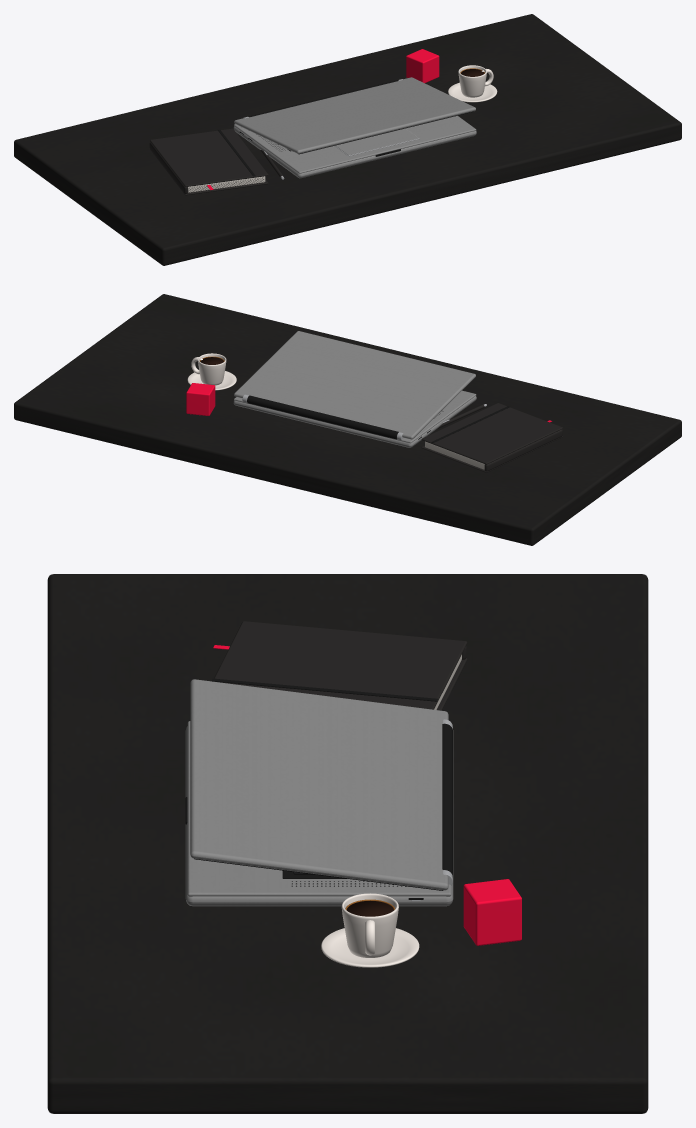
Rendered from workstation-v2.glb.
3 renders of one model, top to bottom at view 1: azimuth 30°, elevation 25°; view 2: azimuth 150°, elevation 25°; view 3: azimuth 270°, elevation 25°, orthographic. The views are drawn at different scales.
Parts seen in each view (by area): view 1: Basalt desktop, Display rear aluminum enclosure, Notebook upper cover, Machined upper deck, Unibody lower shell, Large glass trackpad, Solid ruby acrylic paperweight, Porcelain cup hollow shell, Notebook paper block, Porcelain saucer; view 2: Basalt desktop, Display rear aluminum enclosure, Notebook upper cover, Continuous precision hinge, Unibody lower shell, Solid ruby acrylic paperweight, Machined upper deck, Porcelain cup hollow shell, Notebook binding spine; view 3: Basalt desktop, Display rear aluminum enclosure, Notebook upper cover, Machined upper deck, Solid ruby acrylic paperweight, Unibody lower shell, Porcelain cup hollow shell, Porcelain saucer, Continuous precision hinge, Notebook woven closure band.
Part boxes in pixels (<box>): Basalt desktop: <box>14,14,681,265</box>; Display rear aluminum enclosure: <box>234,77,475,153</box>; Notebook upper cover: <box>150,128,268,186</box>; Machined upper deck: <box>234,115,476,173</box>; Unibody lower shell: <box>233,126,476,178</box>; Large glass trackpad: <box>335,128,418,155</box>; Solid ruby acrylic paperweight: <box>406,49,439,83</box>; Porcelain cup hollow shell: <box>458,65,486,97</box>; Notebook paper block: <box>188,176,265,192</box>; Porcelain saucer: <box>448,82,497,102</box>; Basalt desktop: <box>14,294,681,545</box>; Display rear aluminum enclosure: <box>234,331,475,439</box>; Notebook upper cover: <box>421,403,562,464</box>; Continuous precision hinge: <box>247,395,398,439</box>; Unibody lower shell: <box>233,396,476,447</box>; Solid ruby acrylic paperweight: <box>186,383,215,415</box>; Machined upper deck: <box>234,390,476,443</box>; Porcelain cup hollow shell: <box>198,353,226,385</box>; Notebook binding spine: <box>484,429,562,471</box>; Basalt desktop: <box>47,574,648,1113</box>; Display rear aluminum enclosure: <box>190,679,448,890</box>; Notebook upper cover: <box>214,621,467,709</box>; Machined upper deck: <box>187,721,451,896</box>; Solid ruby acrylic paperweight: <box>463,879,521,945</box>; Unibody lower shell: <box>185,726,453,906</box>; Porcelain cup hollow shell: <box>341,893,398,957</box>; Porcelain saucer: <box>321,928,419,967</box>; Continuous precision hinge: <box>442,723,452,876</box>; Notebook woven closure band: <box>212,678,437,701</box>.
Bounding box in the file's own units: 9.7 × 0.8613 × 4.85.
Materials: 14 (4 with a texture image).
